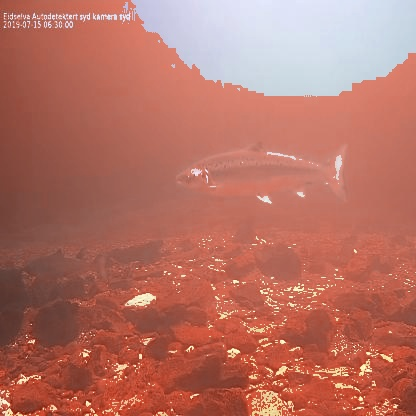salmon: (171, 132, 354, 209), (21, 245, 109, 285)
